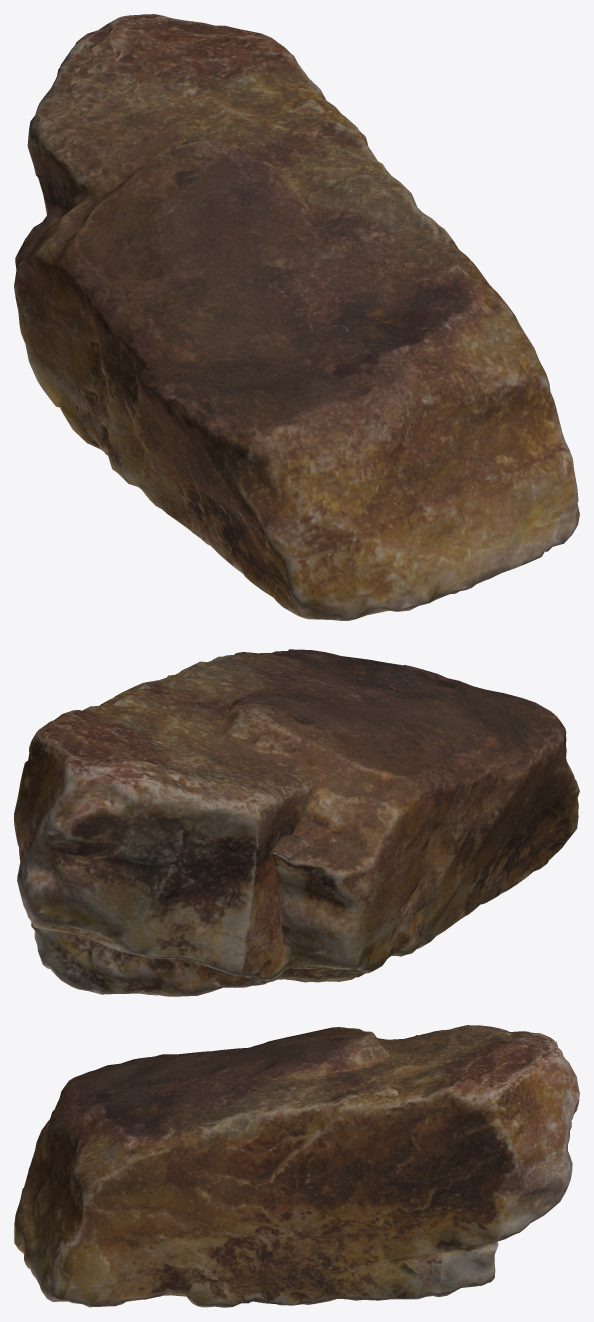
Rendered from rock_07.glb.
3 views of the same model, one above another, from view 1: azimuth 30°, elevation 25°; view 2: azimuth 150°, elevation 25°; view 3: azimuth 270°, elevation 25° (orthographic). The views are drawn at different scales.
Parts seen in each view (by area): view 1: rock_07_lo; view 2: rock_07_lo; view 3: rock_07_lo.
Part boxes in pixels (x1,y1,x2,y2): rock_07_lo: (14, 14, 579, 620); rock_07_lo: (14, 649, 579, 996); rock_07_lo: (14, 1025, 579, 1307).
Bounding box in the file's own units: 0.169 × 0.1437 × 0.3202.
Materials: 1 (1 with a texture image).
